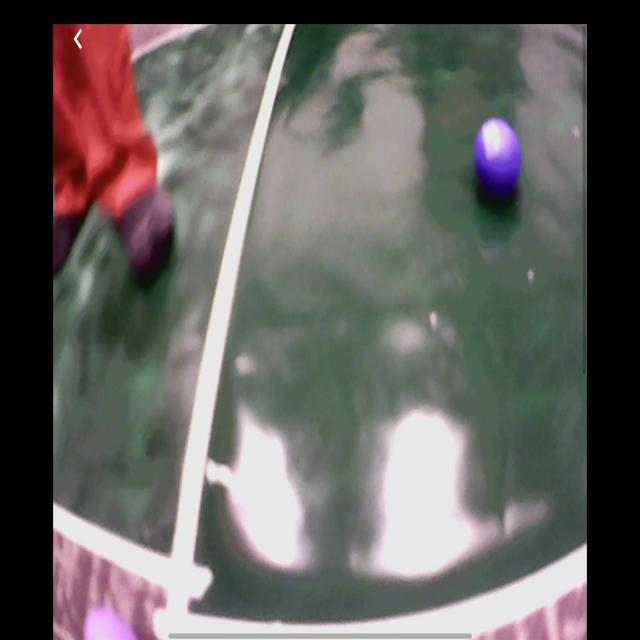ball: (474, 119, 522, 198), (82, 606, 137, 640)
